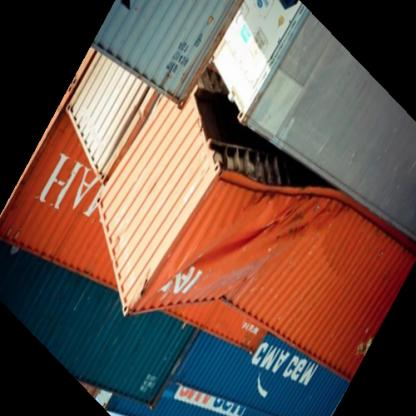Damage: (141, 154, 352, 300)
